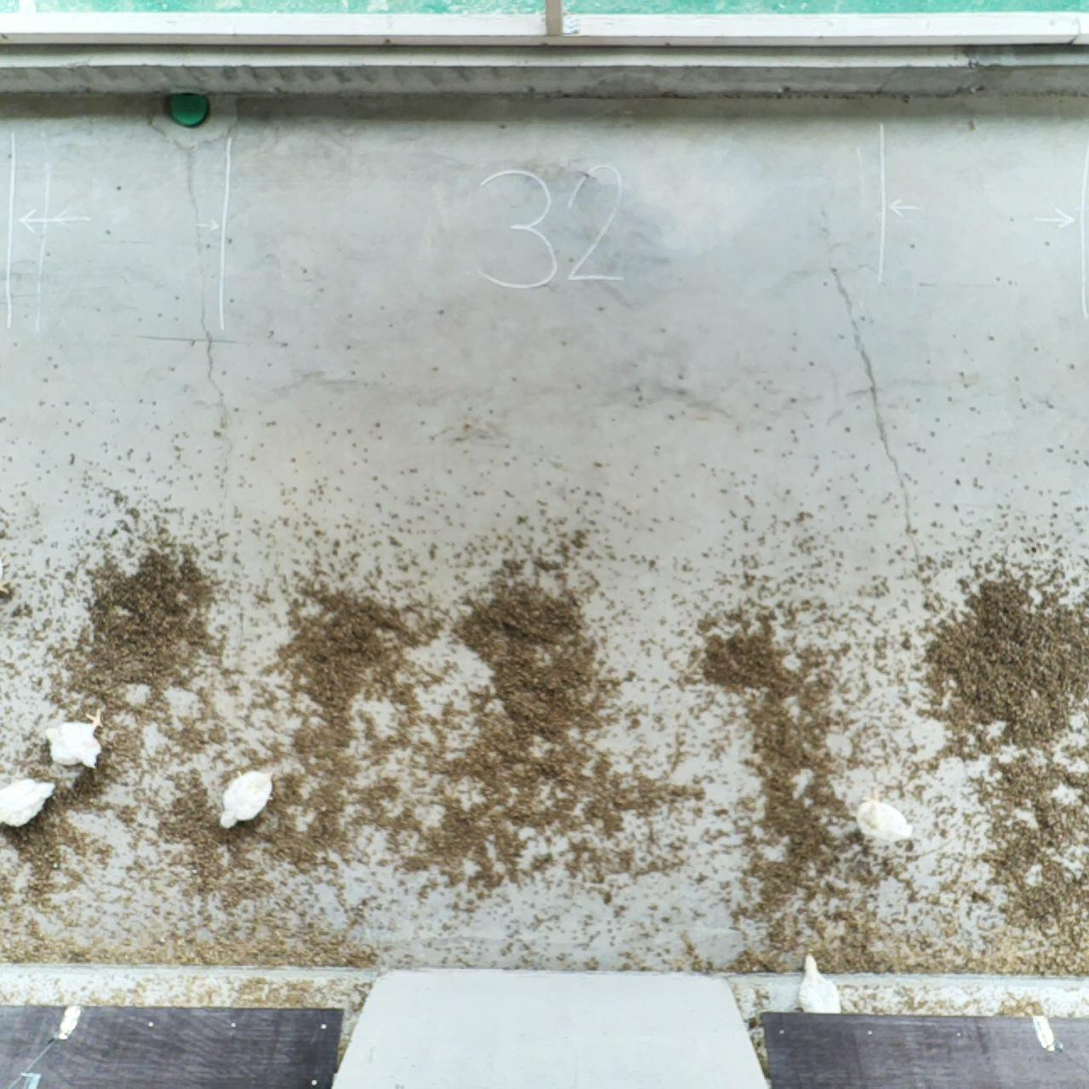chicken: (218, 767, 281, 832), (39, 708, 105, 770), (798, 948, 847, 1020), (851, 794, 916, 843), (0, 774, 55, 830)
